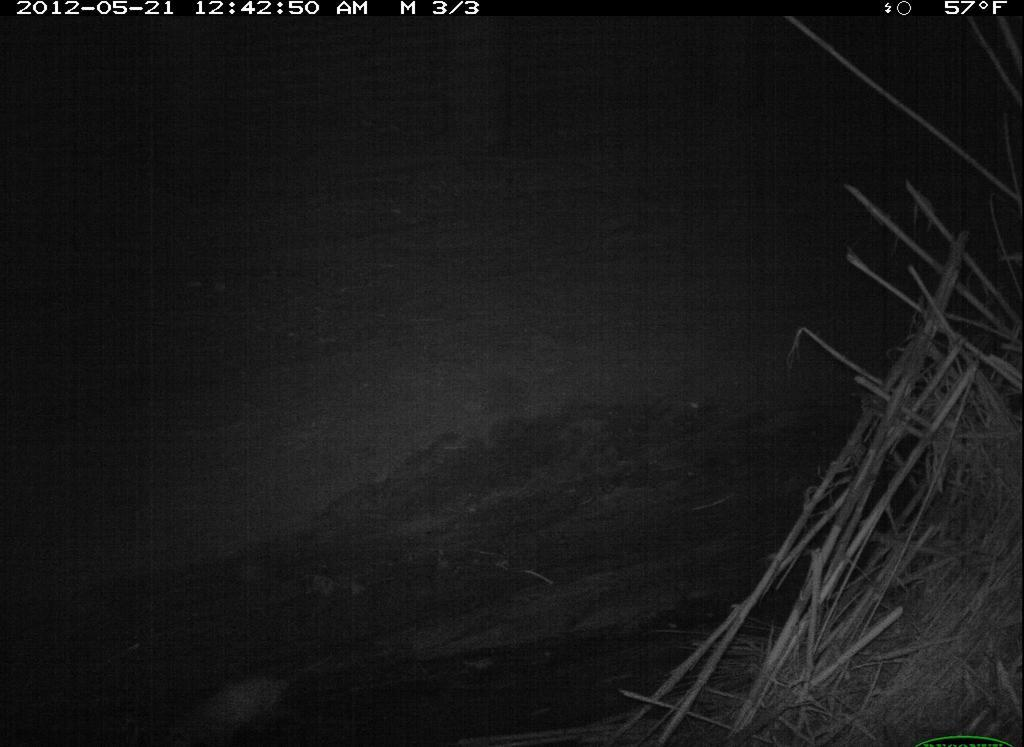opossum: (130, 644, 313, 744)
